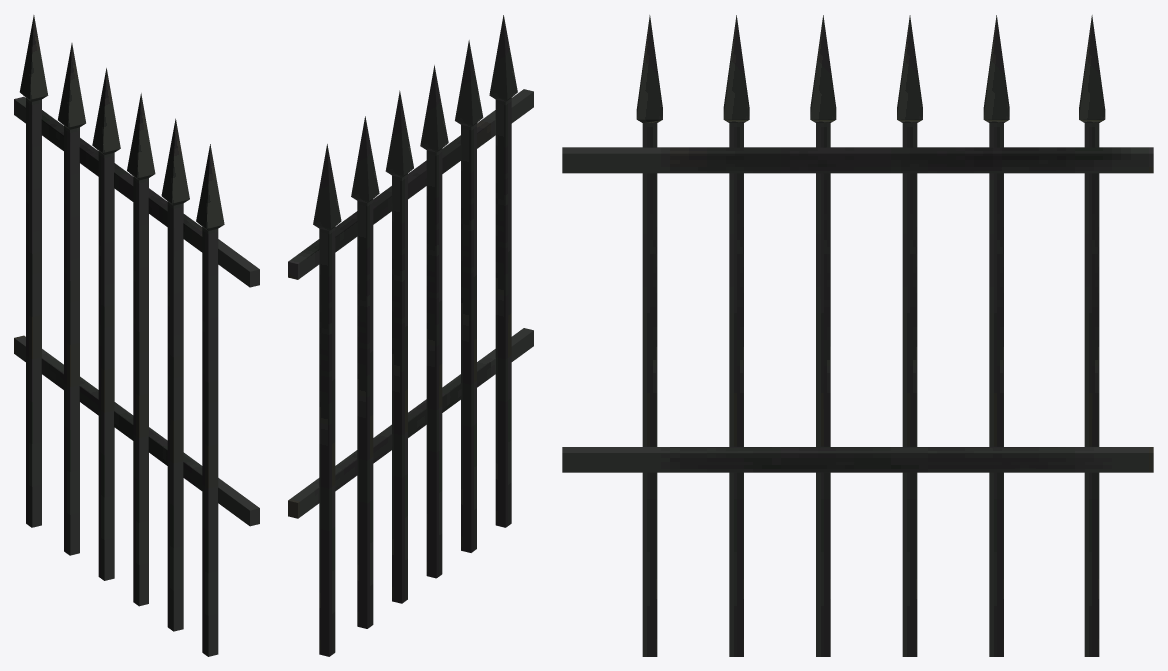
File: item_halloween_fence.glb
3 renders of one model, left to right at view 1: azimuth 30°, elevation 25°; view 2: azimuth 150°, elevation 25°; view 3: azimuth 270°, elevation 25°, orthographic. The views are drawn at different scales.
Visible parts, largest first — view 1: fence; view 2: fence; view 3: fence.
Part boxes in pixels (bbox=[...]): fence: bbox=[14, 15, 259, 656]; fence: bbox=[288, 15, 533, 656]; fence: bbox=[562, 15, 1153, 656].
Bounding box in the file's own units: 0.0696 × 1.43 × 1.2.
Materials: 1 (1 with a texture image).
